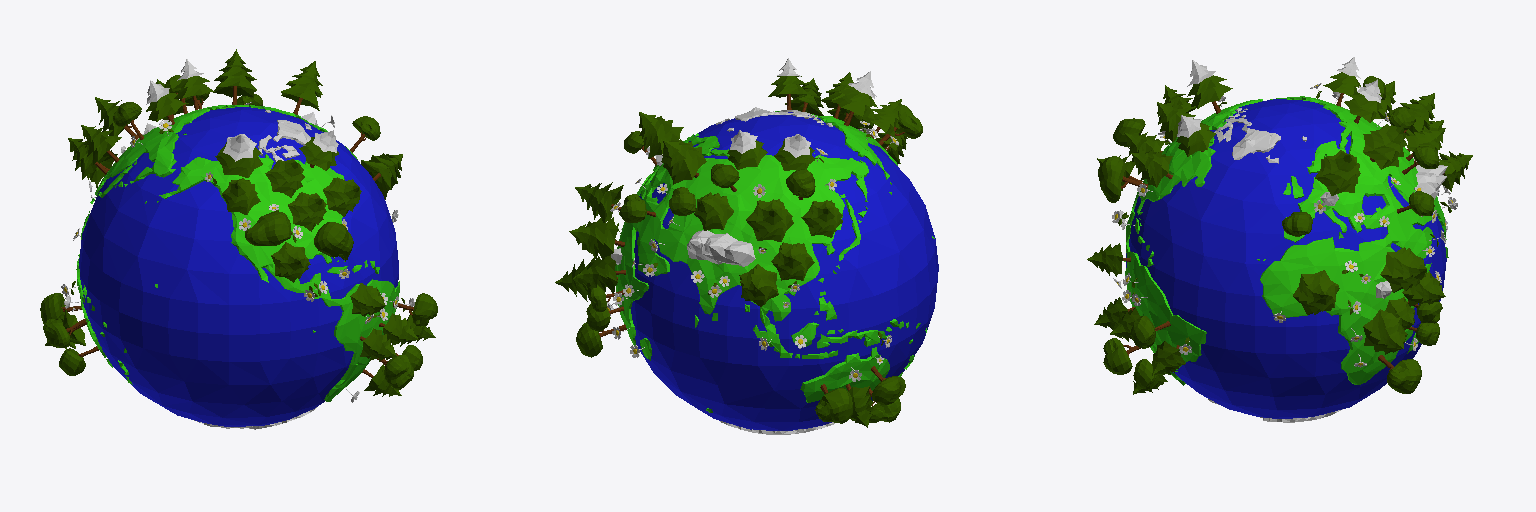
File: LP_Planet.obj
3 renders of one model, left to right at view 1: azimuth 30°, elevation 25°; view 2: azimuth 150°, elevation 25°; view 3: azimuth 270°, elevation 25°, orthographic.
Parts seen in each view (by area): view 1: Sphere, Globo_Sphere.003, Cylinder.002_Cylinder.078, Cylinder.023_Cylinder.024, Cylinder.003, Cylinder.013_Cylinder.014, Cylinder.008_Cylinder.009, Cylinder.015_Cylinder.016, Cylinder.076_Cylinder.077, Cylinder.010_Cylinder.011, Cylinder.006_Cylinder.007, Cylinder.005_Cylinder.006 (+17 smaller); view 2: Sphere, Globo_Sphere.003, Cylinder.048_Cylinder.049, Cylinder.025_Cylinder.026, Cylinder.023_Cylinder.024, Cylinder.016_Cylinder.017, Cylinder.002_Cylinder.078, Cylinder.013_Cylinder.014, Cylinder.026_Cylinder.027, Cylinder.090, Cylinder.027_Cylinder.028, Cylinder.024_Cylinder.025 (+17 smaller); view 3: Sphere, Globo_Sphere.003, Cylinder.015_Cylinder.016, Cylinder.013_Cylinder.014, Cylinder.023_Cylinder.024, Cylinder.016_Cylinder.017, Cylinder.018_Cylinder.019, Cylinder.002_Cylinder.078, Cylinder.008_Cylinder.009, Cylinder.076_Cylinder.077, Cylinder.019_Cylinder.020, Cylinder.075_Cylinder.076 (+20 smaller).
Part boxes in pixels (x1,y1,x2,y2): Sphere: (79,107,398,426); Globo_Sphere.003: (76,105,399,429); Cylinder.002_Cylinder.078: (215,134,262,177); Cylinder.023_Cylinder.024: (213,49,256,104); Cylinder.003: (245,211,291,245); Cylinder.013_Cylinder.014: (281,61,322,114); Cylinder.008_Cylinder.009: (314,222,353,260); Cylinder.015_Cylinder.016: (361,153,402,199); Cylinder.076_Cylinder.077: (299,130,338,170); Cylinder.010_Cylinder.011: (271,242,310,282); Cylinder.006_Cylinder.007: (288,192,326,231); Cylinder.005_Cylinder.006: (323,177,361,216); Sphere: (631,112,938,430); Globo_Sphere.003: (615,107,934,434); Cylinder.048_Cylinder.049: (687,230,755,266); Cylinder.025_Cylinder.026: (746,199,793,241); Cylinder.023_Cylinder.024: (661,139,706,184); Cylinder.016_Cylinder.017: (569,217,624,259); Cylinder.002_Cylinder.078: (831,71,877,125); Cylinder.013_Cylinder.014: (639,112,683,158); Cylinder.026_Cylinder.027: (771,242,814,280); Cylinder.090: (739,264,778,306); Cylinder.027_Cylinder.028: (815,384,852,423); Cylinder.024_Cylinder.025: (694,192,733,230); Sphere: (1126,99,1446,418); Globo_Sphere.003: (1124,96,1448,422); Cylinder.015_Cylinder.016: (1293,270,1339,314); Cylinder.013_Cylinder.014: (1315,150,1360,195); Cylinder.023_Cylinder.024: (1363,124,1407,169); Cylinder.016_Cylinder.017: (1380,247,1426,292); Cylinder.018_Cylinder.019: (1363,309,1407,354); Cylinder.002_Cylinder.078: (1187,60,1232,113); Cylinder.008_Cylinder.009: (1098,156,1147,202); Cylinder.076_Cylinder.077: (1176,115,1215,156); Cylinder.019_Cylinder.020: (1378,355,1421,393); Cylinder.075_Cylinder.076: (1344,79,1382,123).
Size of the model in its own units: 7.66 by 7.2 by 7.53.